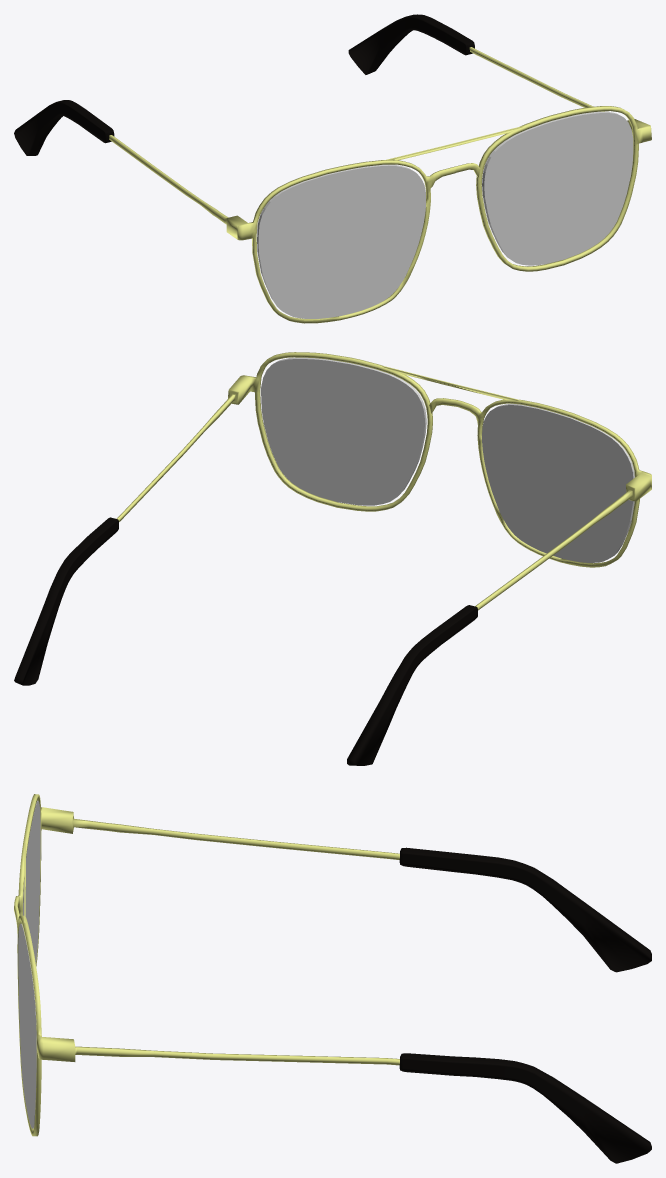
Rendered from Glass.gltf.
3 views of the same model, one above another, from view 1: azimuth 30°, elevation 25°; view 2: azimuth 150°, elevation 25°; view 3: azimuth 270°, elevation 25° (orthographic). The views are drawn at different scales.
Parts seen in each view (by area): view 1: zdaja 2, zdaja.001, Plane.001, karkas.003, karkas.002, Plane; view 2: zdaja.001, zdaja 2, Plane.001, karkas.003, karkas.002; view 3: Plane.001, karkas.002, karkas.003, zdaja.001, zdaja 2.
Boxes of the visible parts, x1=… form: zdaja 2: x1=257, y1=164, x2=425, y2=318; zdaja.001: x1=482, y1=111, x2=633, y2=265; Plane.001: x1=14, y1=14, x2=474, y2=155; karkas.003: x1=109, y1=135, x2=480, y2=323; karkas.002: x1=469, y1=47, x2=651, y2=271; Plane: x1=383, y1=126, x2=522, y2=160; zdaja.001: x1=261, y1=357, x2=426, y2=505; zdaja 2: x1=482, y1=403, x2=634, y2=562; Plane.001: x1=14, y1=517, x2=477, y2=765; karkas.003: x1=429, y1=398, x2=651, y2=610; karkas.002: x1=116, y1=352, x2=432, y2=521; Plane.001: x1=399, y1=847, x2=651, y2=1163; karkas.002: x1=17, y1=915, x2=399, y2=1136; karkas.003: x1=14, y1=794, x2=399, y2=966; zdaja.001: x1=18, y1=923, x2=36, y2=1128; zdaja 2: x1=23, y1=800, x2=40, y2=963.
Bounding box in the file's own units: 35.46 × 13.02 × 40.47.
